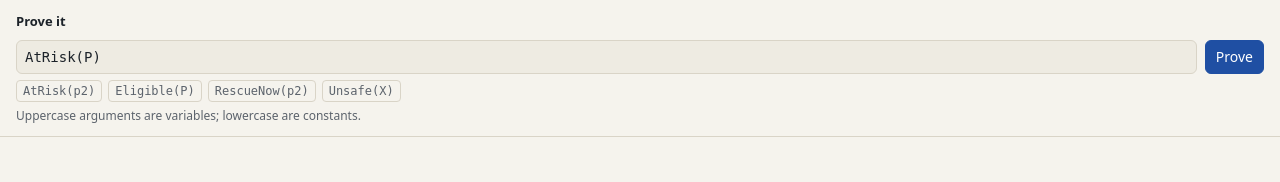
Test: ProveIt › reports a parse error from the engine instead of guessing
The image size is (1280, 182).
Replace the text in the field named "Goal to prove" with "AtRisk(p2" at (606, 56), box [16,40,1197,74]
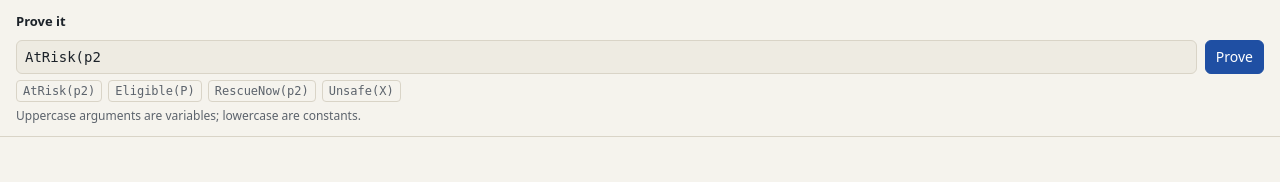
Click the button "Prove" at (1234, 56), box [1205,40,1264,74]
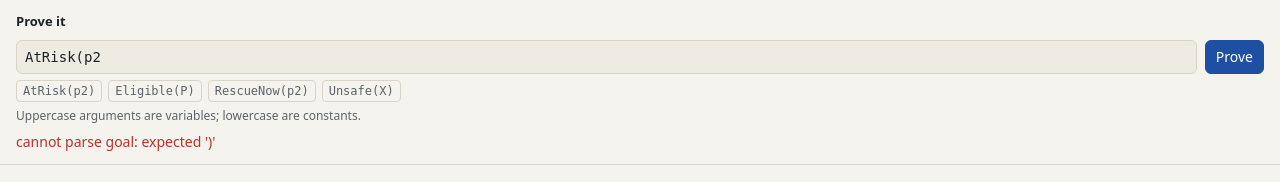
Expected: the text "cannot parse goal: expected ')'" is shown, [16,132,215,150]
